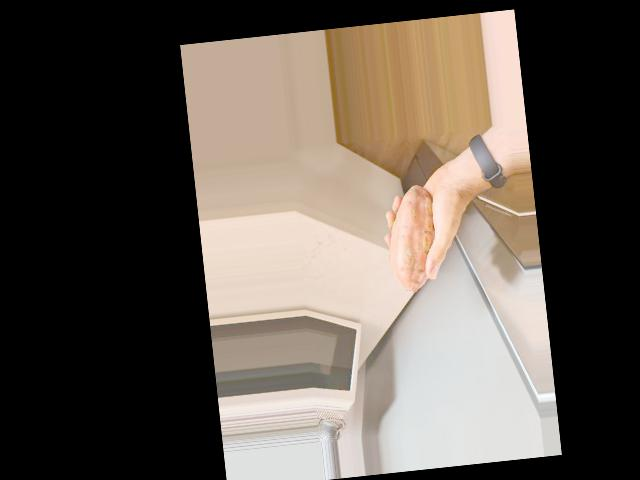sweet_potato: (383, 182, 444, 294)
